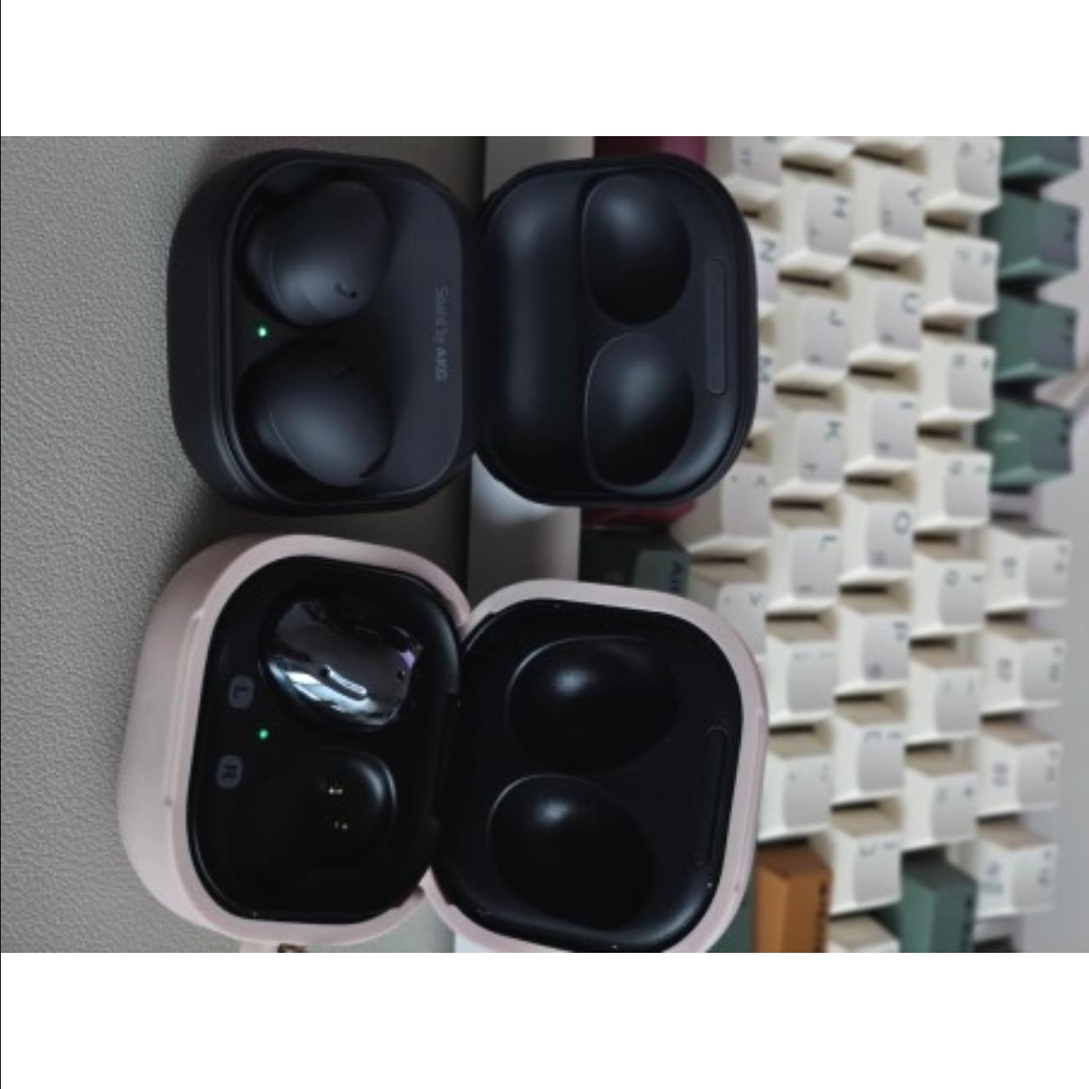Buds: (108, 525, 772, 953), (160, 150, 761, 529)
Buds_Units: (218, 166, 403, 336), (246, 585, 428, 745), (230, 331, 402, 493)
